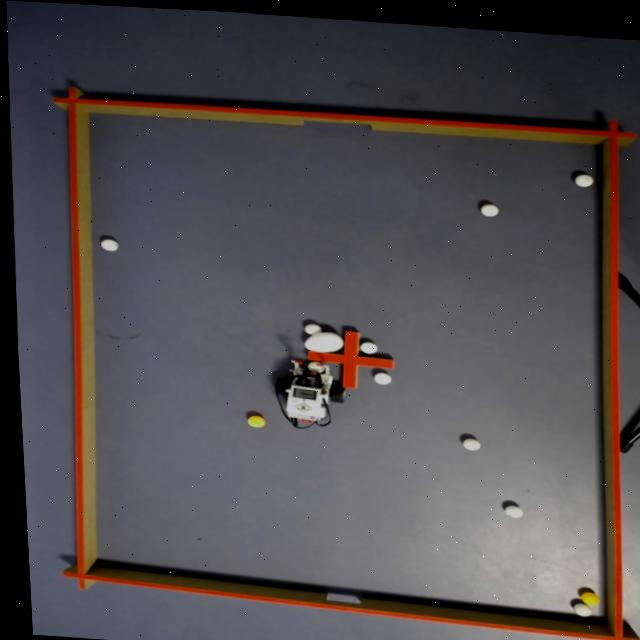boundaries: (50, 83, 640, 640), (89, 110, 605, 622)
cross: (307, 328, 395, 388)
egg: (304, 328, 344, 353)
large_goal: (297, 110, 378, 130)
orange_ball: (246, 413, 267, 428), (580, 590, 600, 605)
robot: (271, 358, 348, 430)
small_goal: (321, 589, 368, 610)
white_ball: (573, 172, 594, 187), (461, 436, 482, 451), (503, 503, 524, 518), (100, 236, 120, 251), (479, 202, 499, 217), (359, 339, 379, 353), (372, 371, 393, 384), (574, 602, 592, 617), (303, 321, 322, 335), (306, 359, 324, 372)
